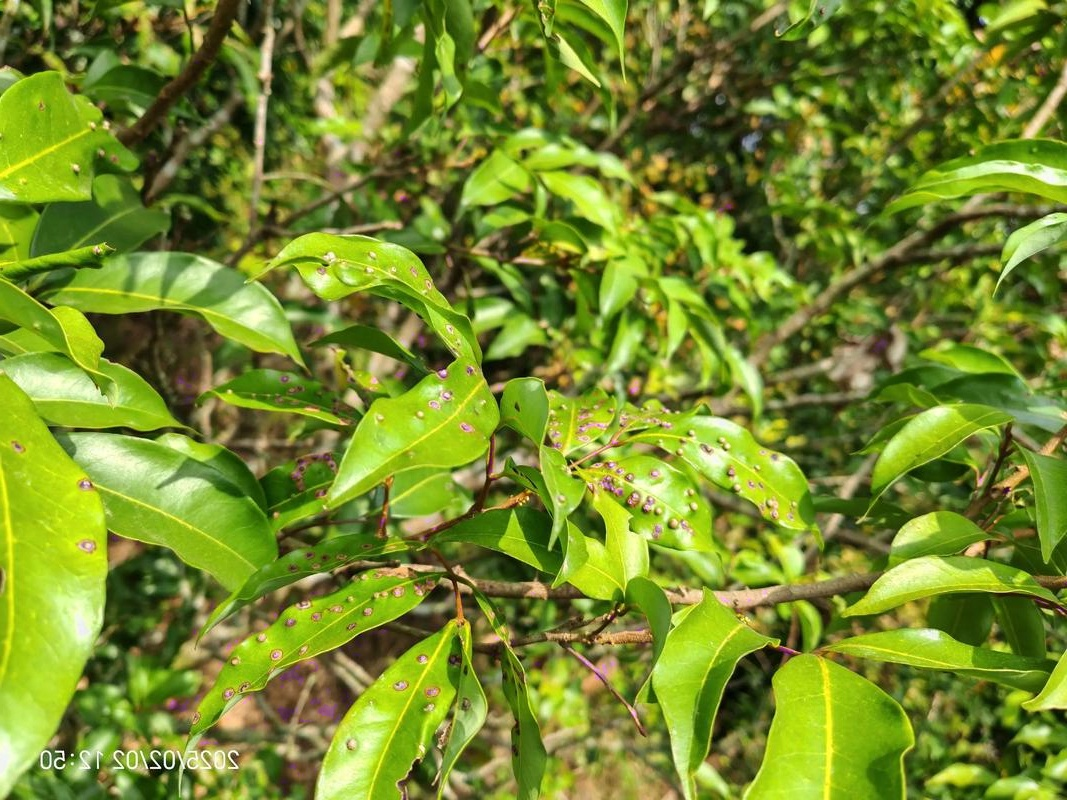Anthracnose: (194, 559, 466, 726), (260, 197, 524, 340), (669, 413, 871, 555), (520, 382, 717, 519), (345, 321, 520, 469), (309, 640, 520, 762), (51, 419, 162, 551)
